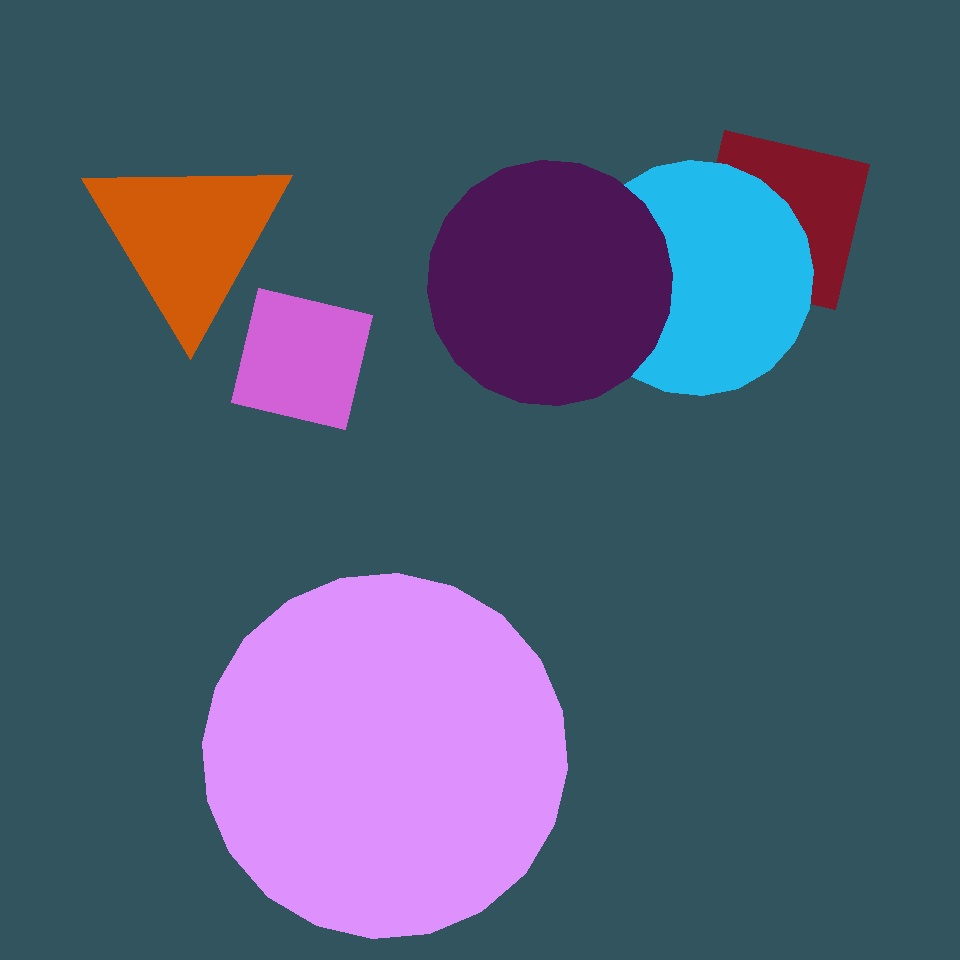circle: (82, 146, 294, 330), (295, 80, 443, 243)
square: (85, 571, 448, 934), (690, 130, 870, 310), (608, 421, 771, 585), (232, 288, 372, 430)
triangle: (203, 574, 568, 938), (428, 161, 672, 406), (578, 161, 814, 396)
